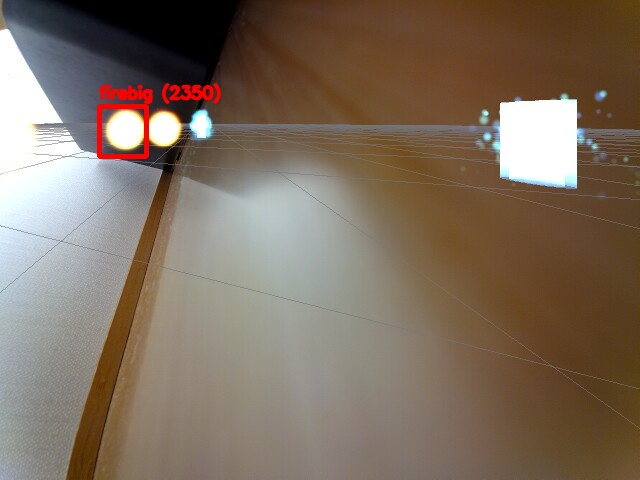firebig: (99, 106, 146, 156)
